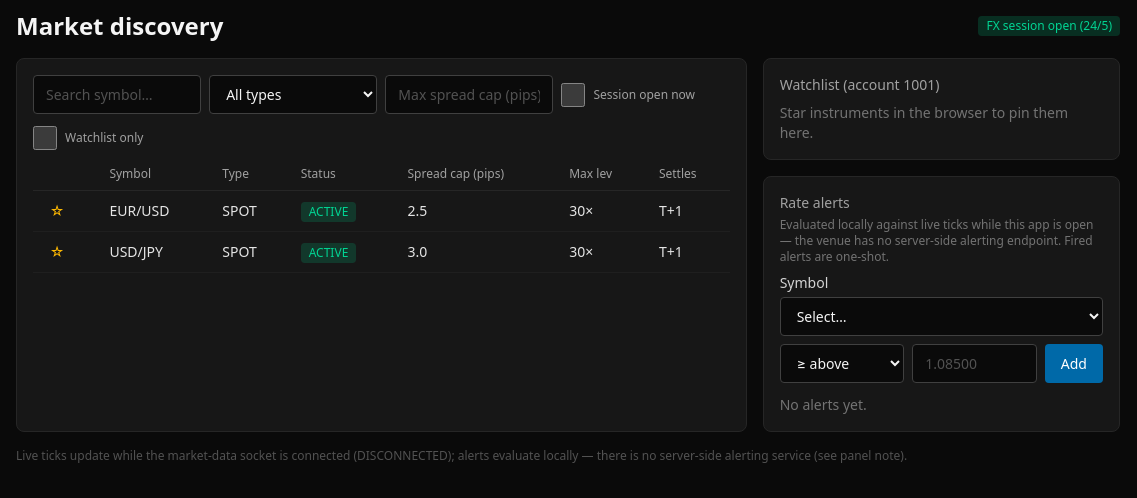
Scenario: DiscoveryPage › stars an instrument into the account watchlist (persisted)
Check: the text "EUR/USD" is shown, box [97,190,210,232]
Click the button named "Add EUR/USD to watchlist" at (57, 211), box [45,199,69,223]
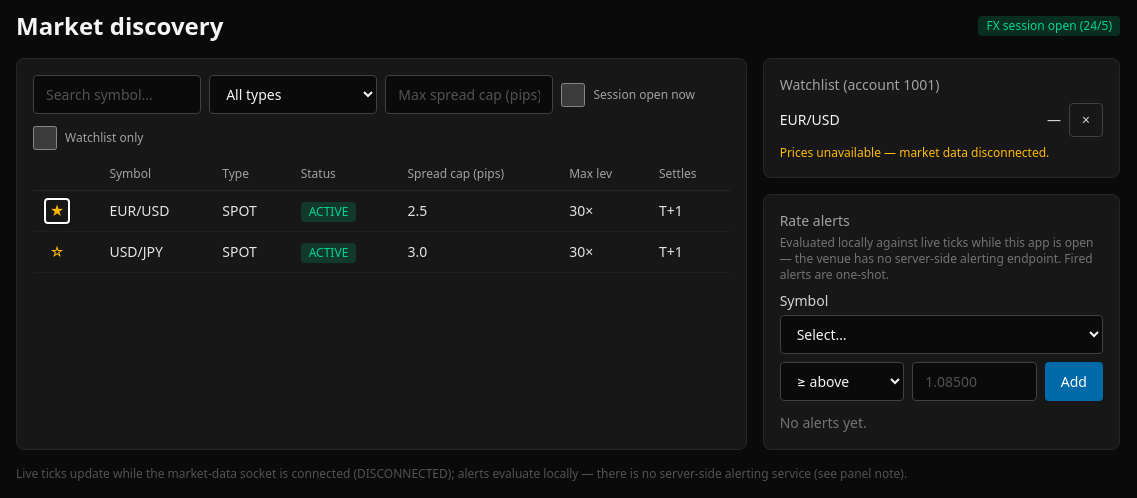
Check: the text "Prices unavailable — market data disconnected." is shown, box [780,144,1049,161]
